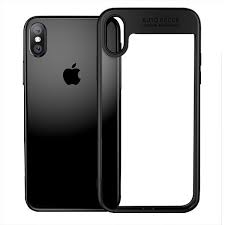iphone: (18, 12, 121, 214)
iphone10: (18, 13, 121, 215)
